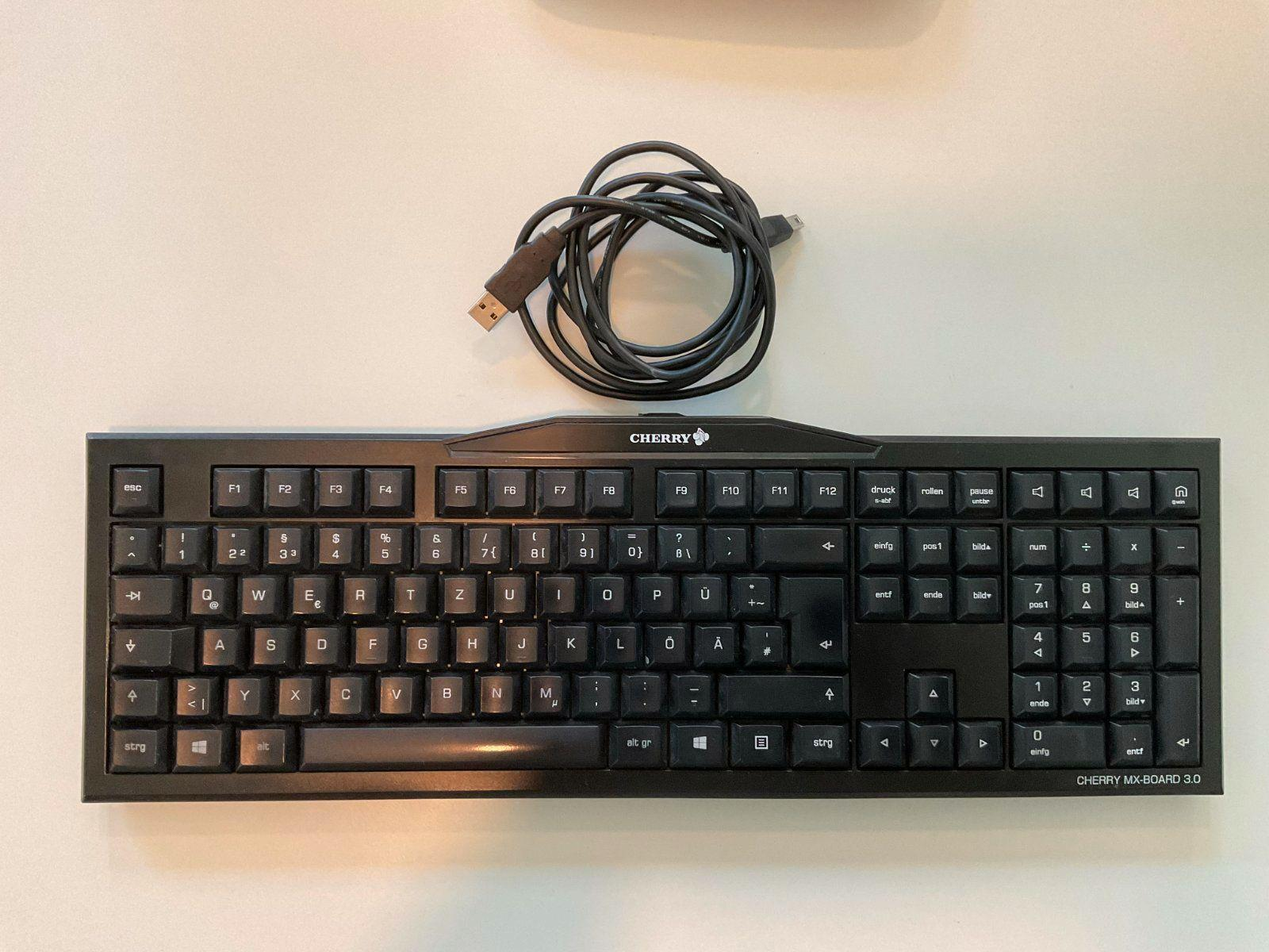0: (610, 522, 652, 566)
1: (162, 524, 203, 566)
2: (213, 522, 255, 568)
3: (263, 522, 305, 566)
4: (317, 523, 355, 564)
5: (366, 522, 405, 566)
6: (416, 521, 456, 565)
7: (466, 522, 504, 564)
8: (515, 522, 554, 566)
9: (563, 522, 602, 566)
a: (200, 625, 239, 666)
accent: (707, 523, 747, 566)
ae: (693, 621, 737, 665)
alt-left: (236, 726, 288, 766)
altgr-right: (608, 720, 664, 766)
b: (427, 672, 464, 712)
c: (327, 673, 364, 712)
caret: (111, 523, 151, 566)
comma: (576, 672, 613, 713)
d: (303, 624, 340, 663)
del: (754, 524, 845, 566)
e: (289, 572, 329, 614)
enter: (778, 572, 845, 667)
f: (354, 624, 389, 662)
g: (404, 622, 439, 661)
h: (454, 622, 489, 662)
hash: (744, 622, 784, 664)
i: (539, 572, 576, 612)
j: (504, 622, 539, 662)
k: (550, 621, 589, 662)
keyboard: (82, 415, 1227, 800)
l: (599, 622, 638, 662)
less: (174, 675, 212, 715)
m: (526, 671, 564, 712)
minus: (673, 672, 711, 712)
n: (477, 672, 514, 712)
o: (587, 573, 625, 613)
oe: (647, 622, 687, 663)
p: (635, 573, 674, 613)
plus: (730, 572, 772, 615)
point: (623, 672, 662, 712)
q: (186, 572, 228, 616)
r: (342, 573, 378, 613)
s: (251, 624, 292, 665)
shift-left: (110, 678, 159, 716)
shift-lock: (110, 626, 191, 667)
shift-right: (720, 674, 845, 712)
space: (297, 720, 603, 767)
ss: (658, 522, 700, 566)
strg-left: (108, 726, 163, 770)
strg-right: (790, 722, 850, 766)
t: (393, 572, 428, 612)
tab: (109, 573, 175, 616)
u: (491, 572, 527, 612)
ue: (681, 572, 723, 615)
v: (378, 673, 414, 712)
w: (239, 571, 278, 614)
x: (277, 674, 313, 714)
y: (225, 675, 263, 715)
z: (441, 572, 477, 612)
